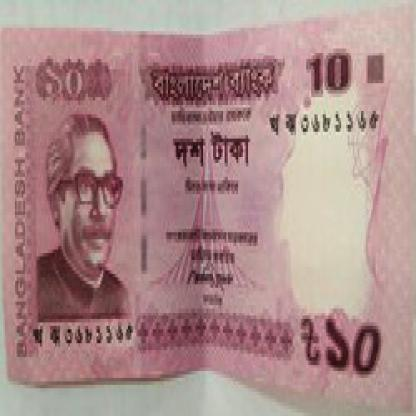Ten Taka: (321, 298, 391, 388), (305, 45, 356, 104), (35, 59, 96, 104)
